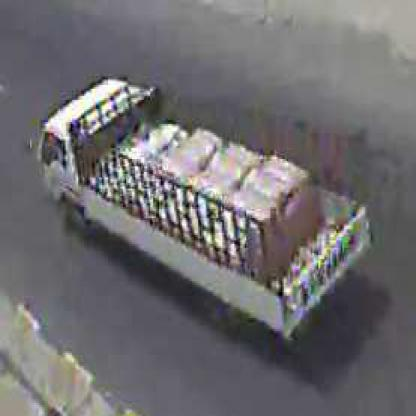truck: (45, 81, 375, 336)
